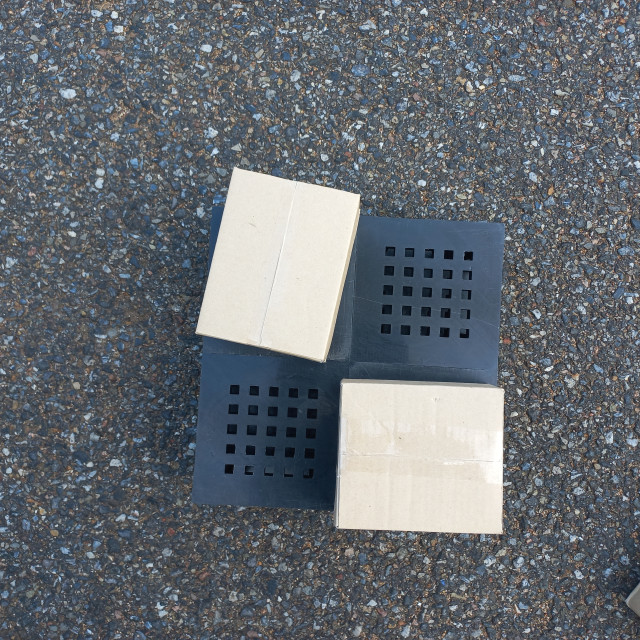box: (197, 166, 364, 366), (334, 377, 505, 536)
